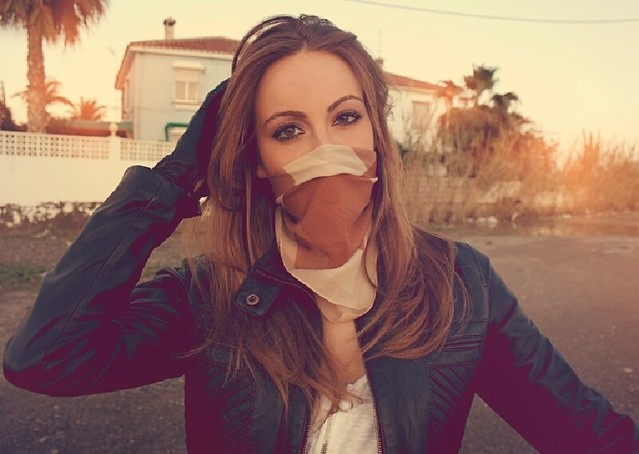face_with_mask: (244, 31, 382, 237)
